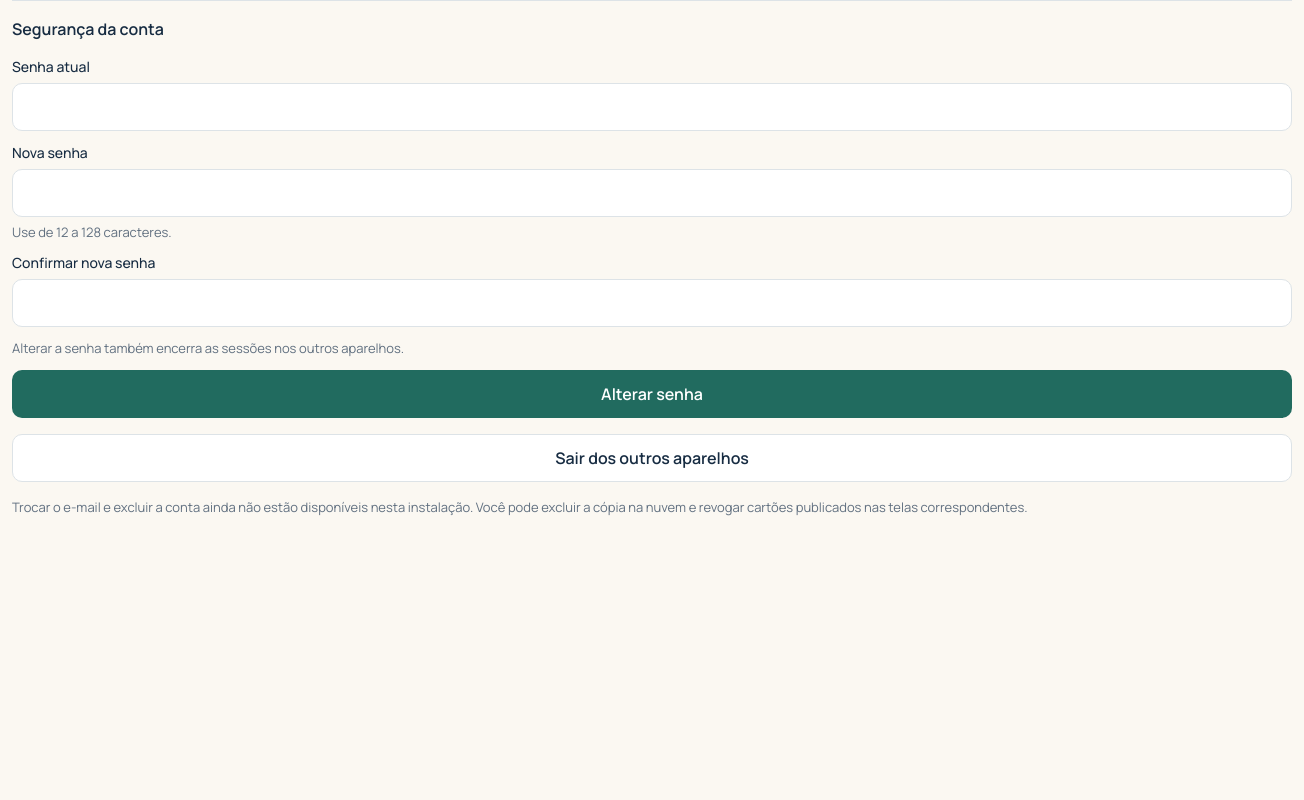
Test: account security › changes the password with account binding and revokes other sessions
Type "current-password" into the password field labelled "Senha atual" at {"x": 652, "y": 107}, box [12,83,1292,131]
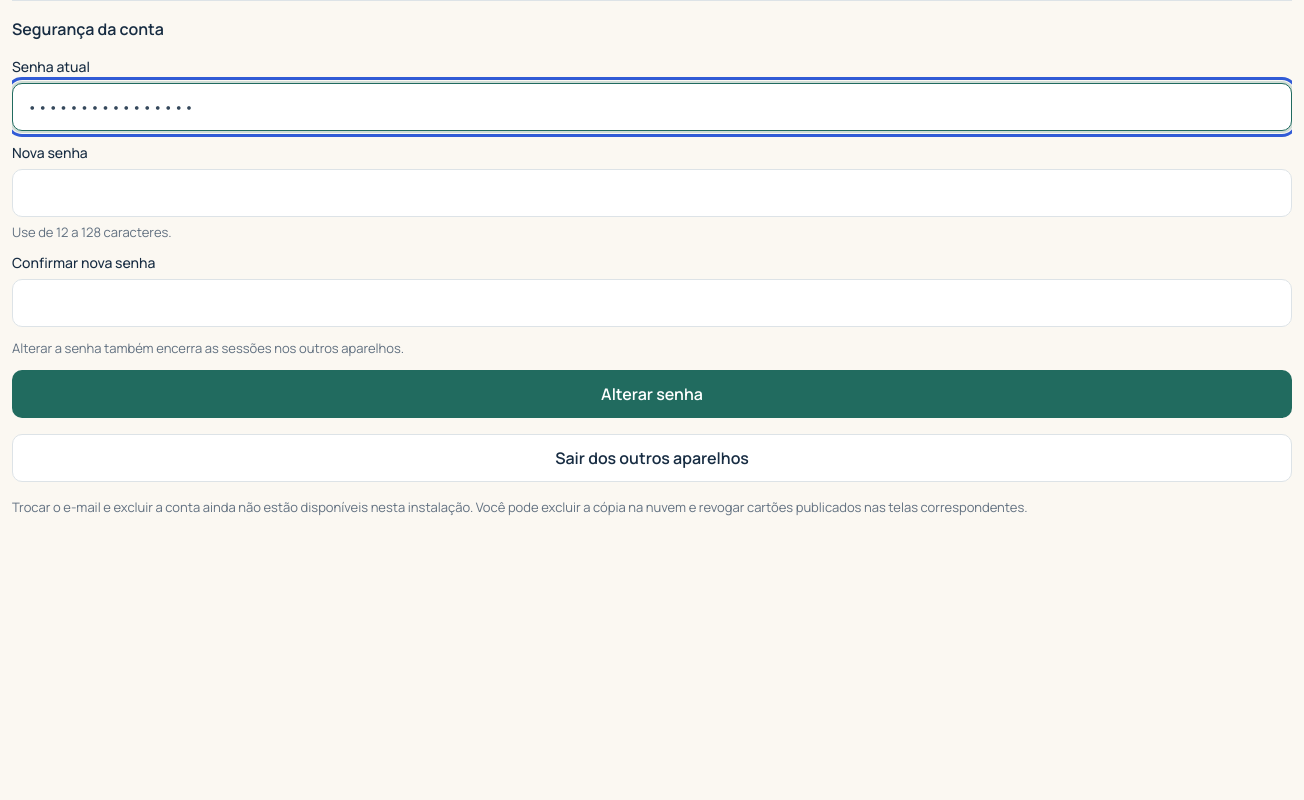
Type "new-password-secure" into the password field labelled "Nova senha" at {"x": 652, "y": 193}, box [12,169,1292,217]
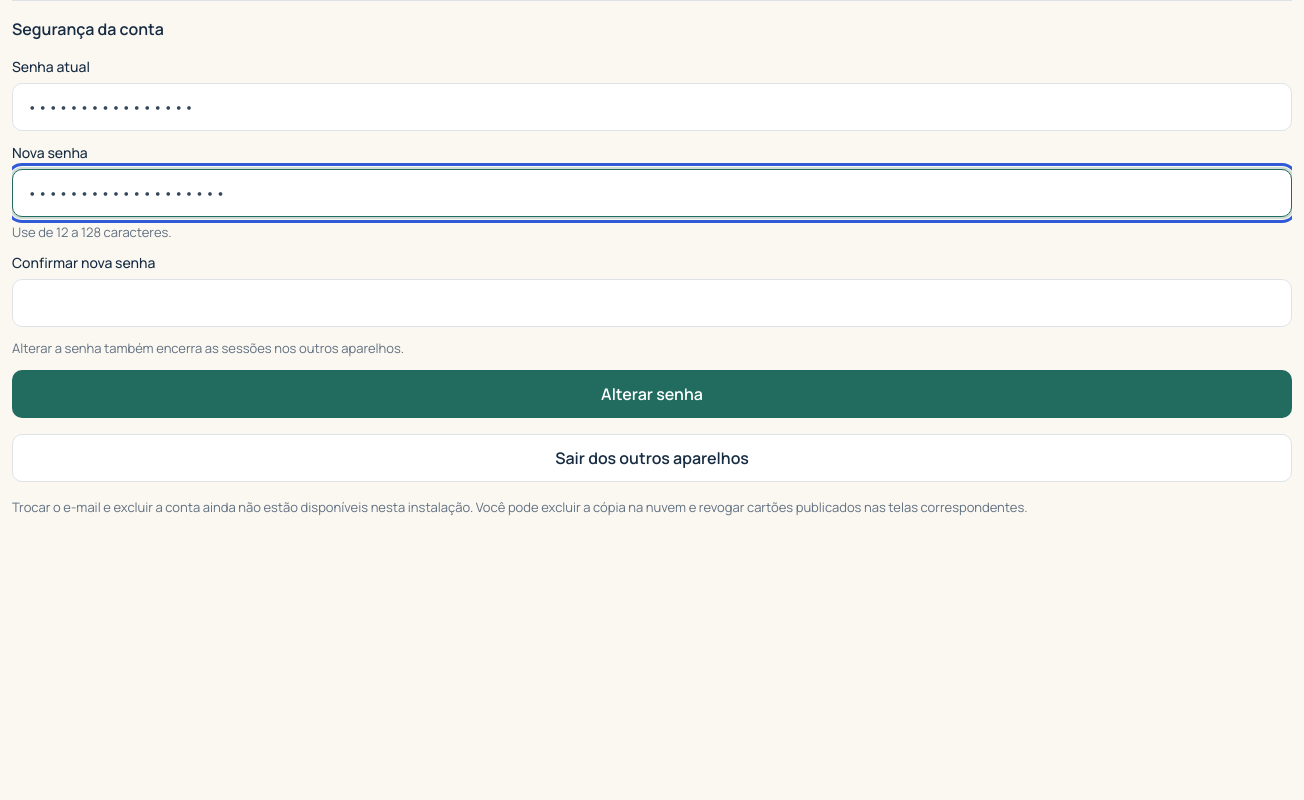
Type "new-password-secure" into the password field labelled "Confirmar nova senha" at {"x": 652, "y": 303}, box [12,279,1292,327]
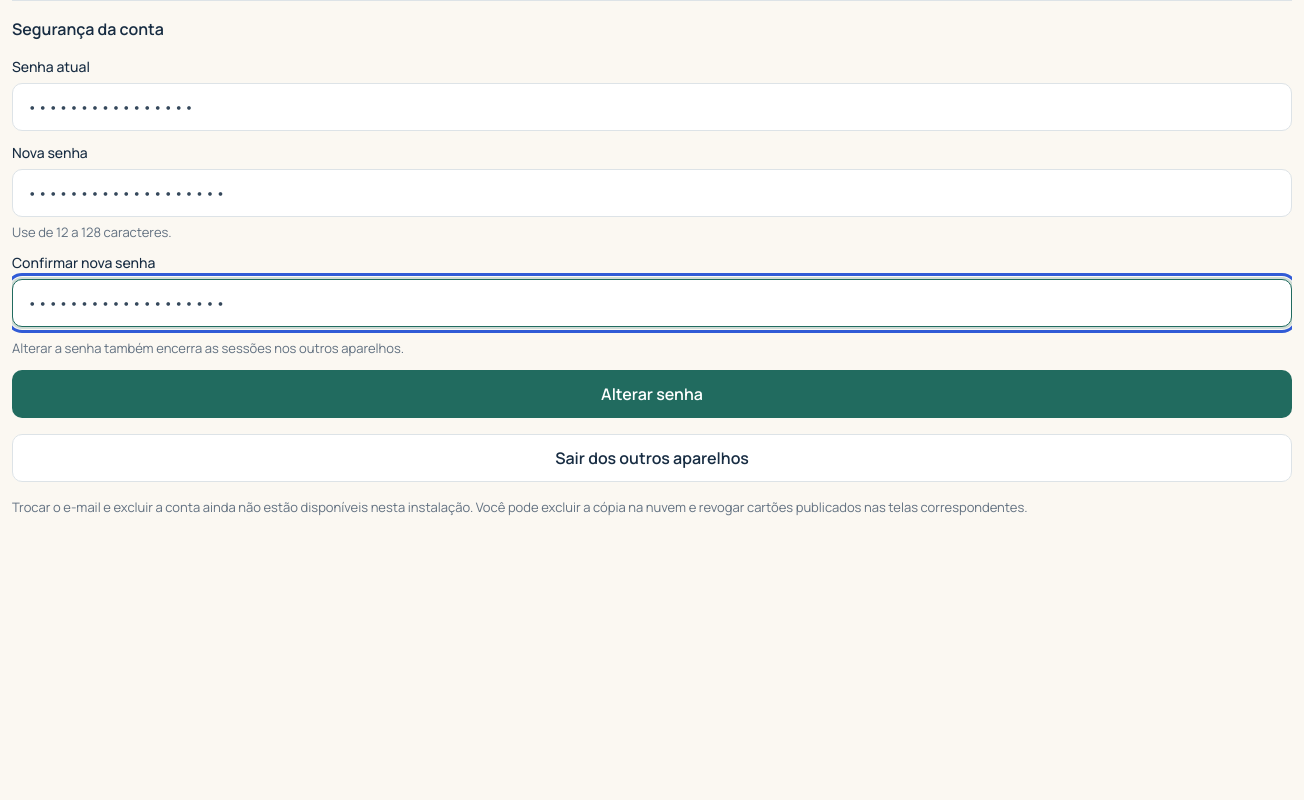
Click the button "Alterar senha" at {"x": 652, "y": 394}, box [12,370,1292,418]
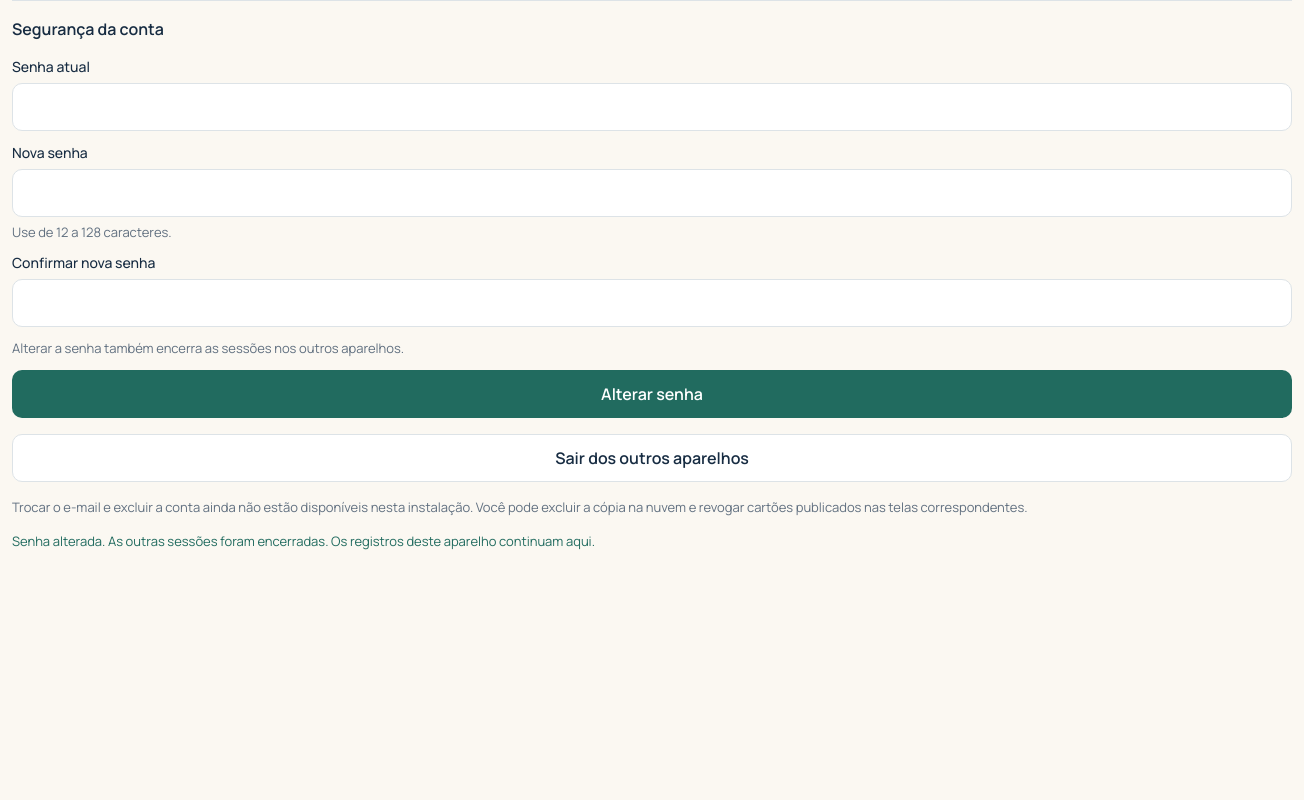
Result: the message shows "Senha alterada" at [12,532,595,550]
Result: the password field labelled "Senha atual" is empty at [12,83,1292,131]
Result: the password field labelled "Nova senha" is empty at [12,169,1292,217]
